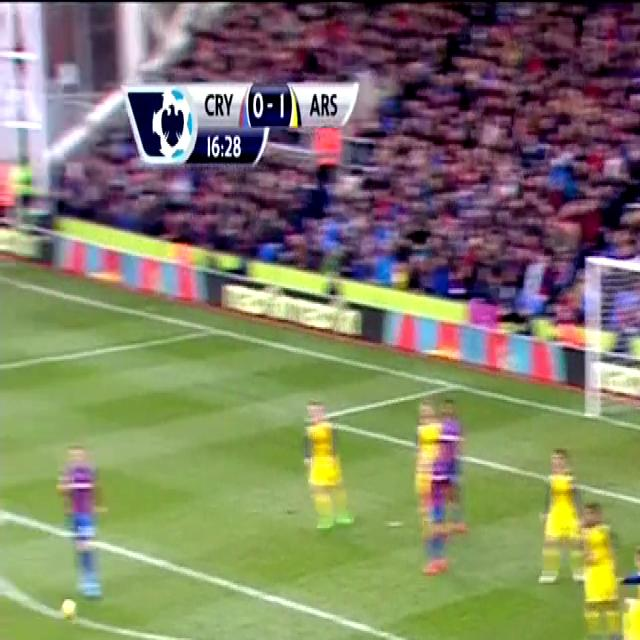ball: (54, 590, 85, 628)
soccer-player: (400, 385, 483, 580), (38, 429, 115, 609), (528, 434, 598, 590), (605, 540, 640, 640)
